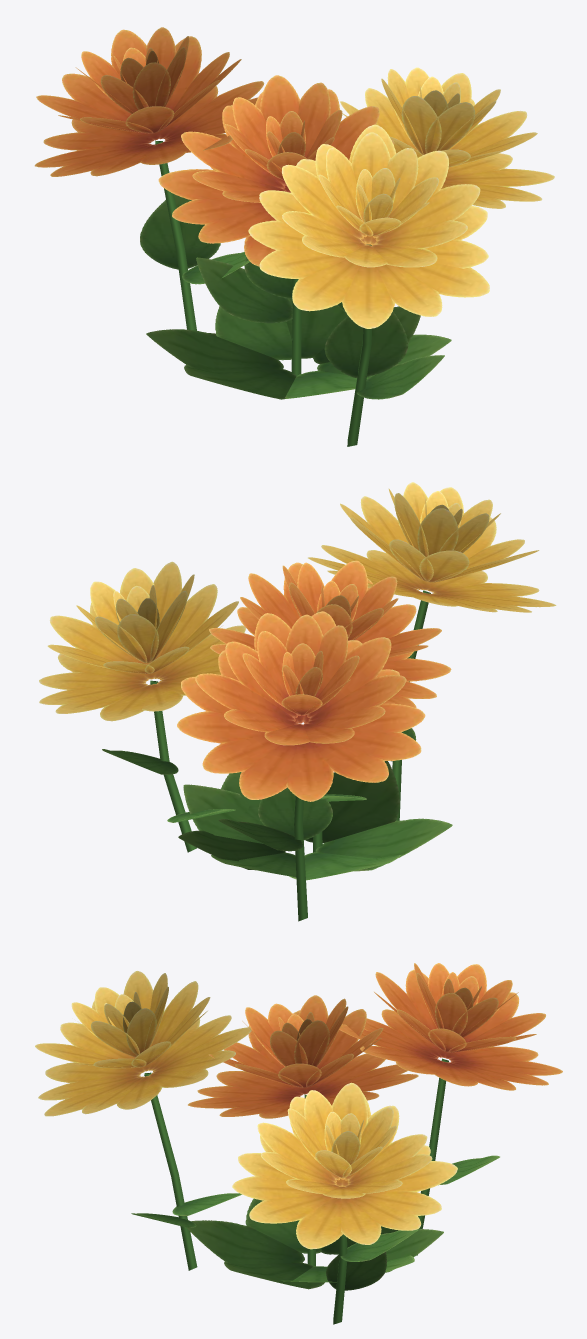
File: flower-mum.glb
3 views of the same model, one above another, from view 1: azimuth 30°, elevation 25°; view 2: azimuth 150°, elevation 25°; view 3: azimuth 270°, elevation 25° (orthographic). The views are drawn at different scales.
Parts seen in each view (by area): view 1: Flower; view 2: Flower; view 3: Flower.
Boxes of the visible parts, left/top/right/bottom form: Flower: left=34, top=27, right=554, bottom=446; Flower: left=39, top=482, right=556, bottom=921; Flower: left=35, top=963, right=562, bottom=1324.
Bounding box in the file's own units: 0.7284 × 0.4931 × 0.8643.
Materials: 1 (1 with a texture image).
